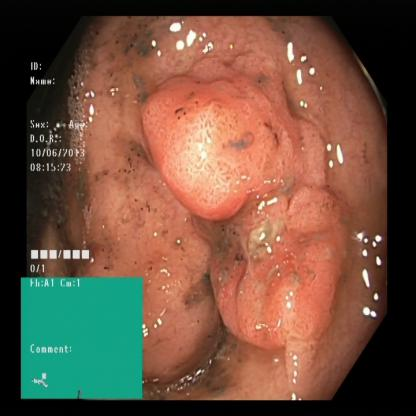Labels: (30, 60, 99, 283), (20, 278, 145, 401)
Polyps: (104, 193, 204, 363), (143, 90, 268, 220), (220, 211, 338, 346)
